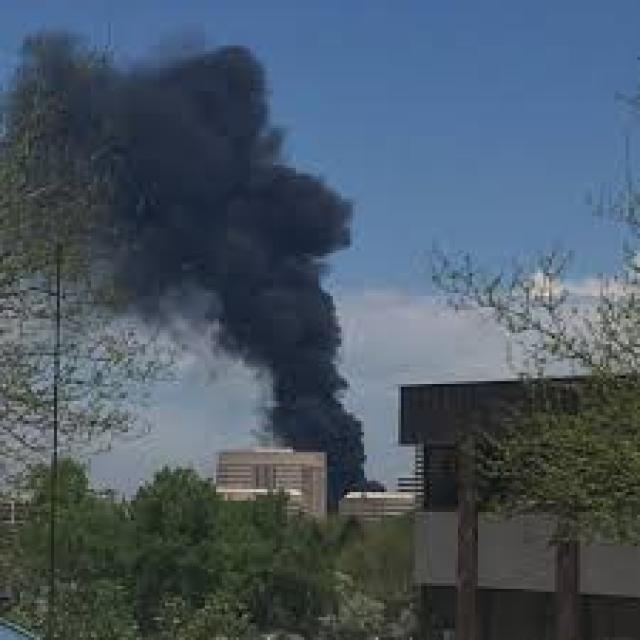Smoke: (0, 30, 388, 517)
